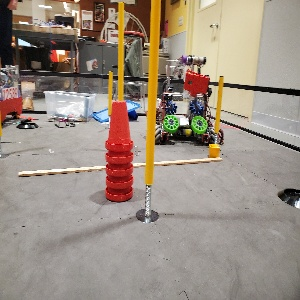Red_5: (105, 99, 132, 202)
